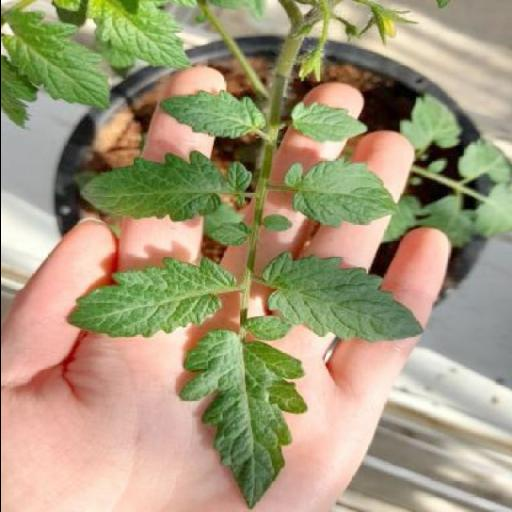Healthy: (178, 330, 306, 510), (262, 252, 422, 343), (67, 258, 237, 338), (81, 152, 251, 222), (282, 158, 398, 228), (157, 90, 263, 138), (288, 103, 366, 144)
